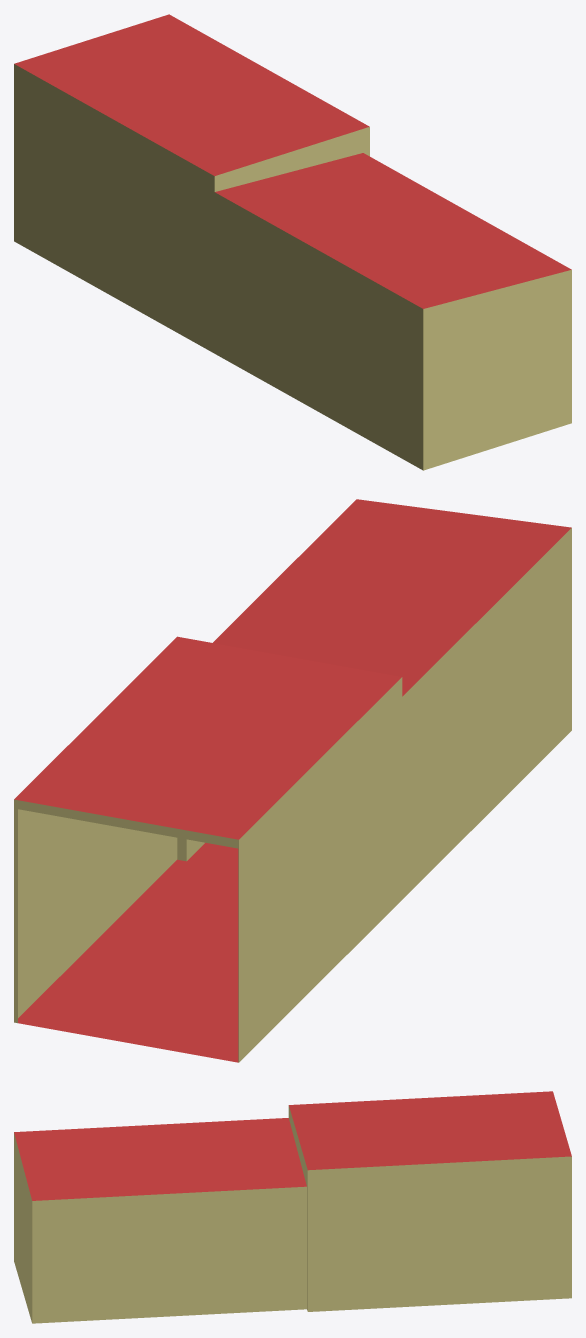
3 views of the same model, one above another, from view 1: azimuth 30°, elevation 25°; view 2: azimuth 150°, elevation 25°; view 3: azimuth 270°, elevation 25° (orthographic). The views are drawn at different scales.
Size of the model in its own units: 11.59 by 30.19 by 8.47.
